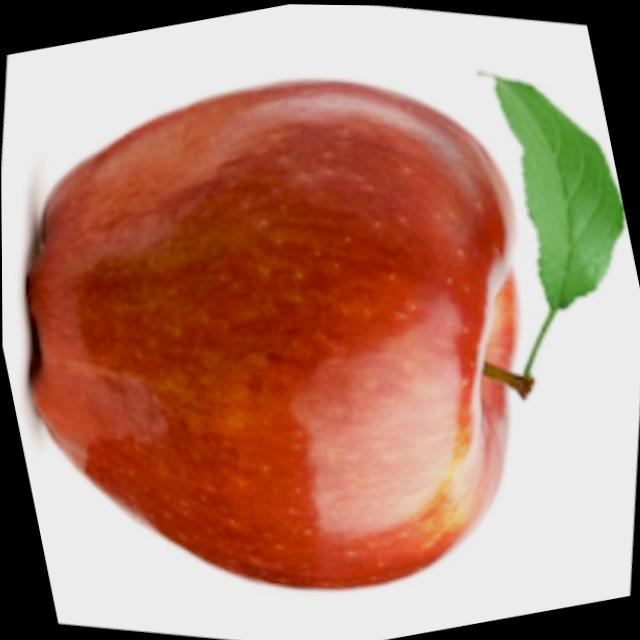organik: (0, 16, 591, 640)
